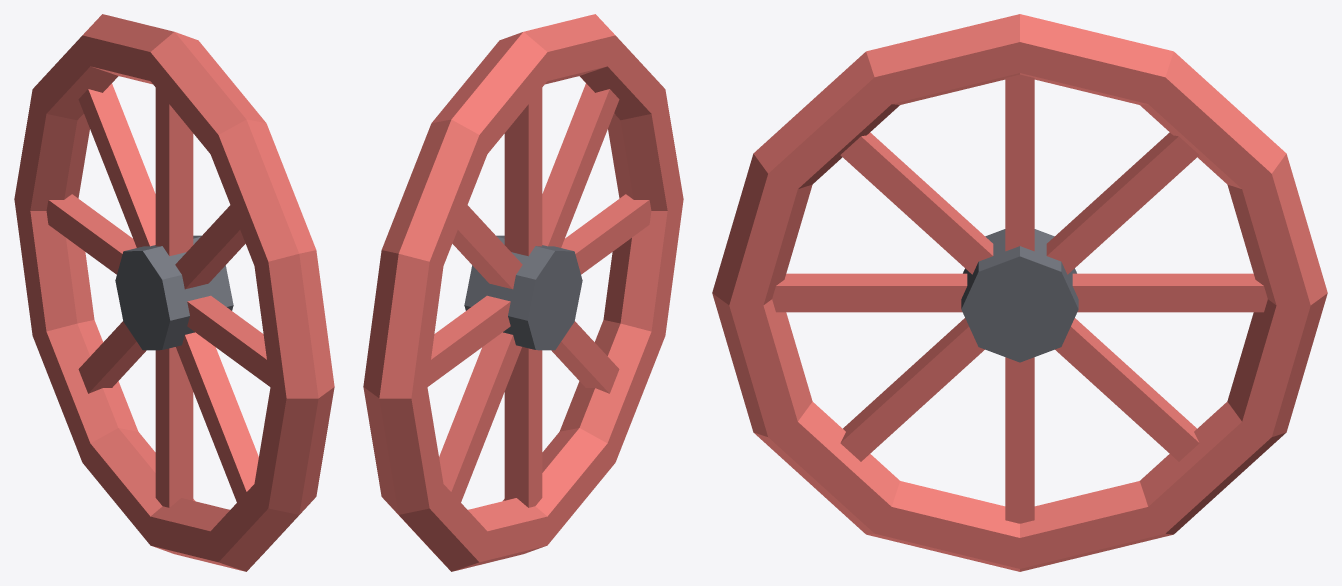
File: ValveWheel.fbx
3 views of the same model, side by side, from view 1: azimuth 30°, elevation 25°; view 2: azimuth 150°, elevation 25°; view 3: azimuth 270°, elevation 25° (orthographic). The views are drawn at different scales.
Parts seen in each view (by area): view 1: ValveWheel; view 2: ValveWheel; view 3: ValveWheel.
Boxes of the visible parts, bbox=[...] form: ValveWheel: bbox=[14, 14, 334, 571]; ValveWheel: bbox=[363, 14, 683, 571]; ValveWheel: bbox=[712, 14, 1327, 571].
Bounding box in the file's own units: 0.08 × 0.63 × 0.63.
